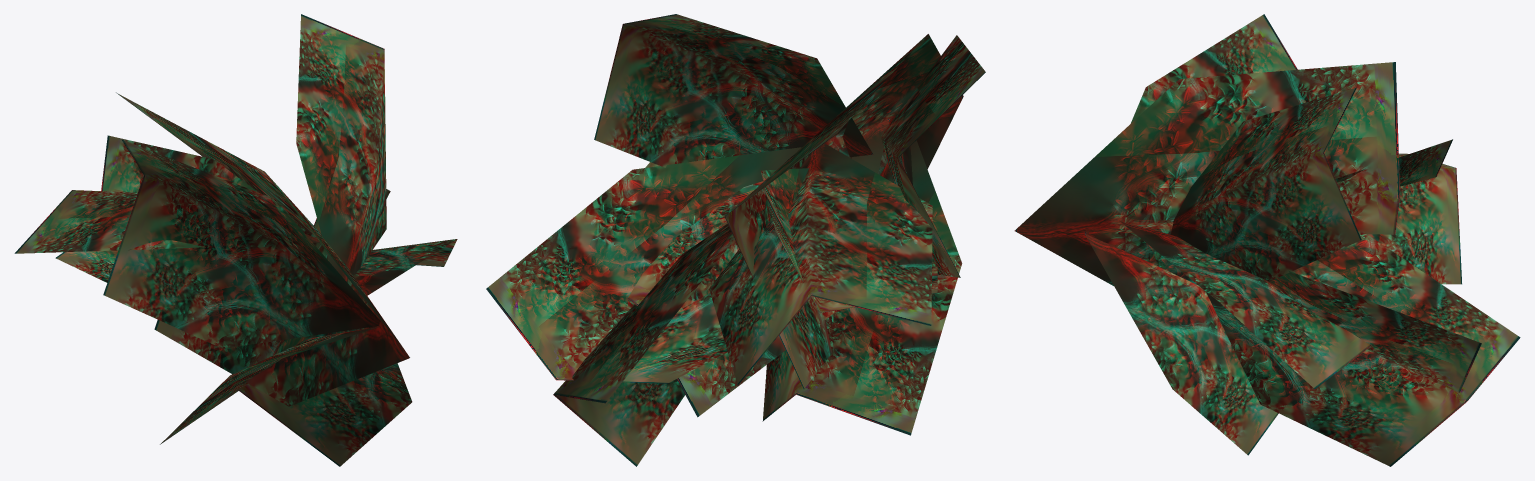
The model's file is Bush_06_01.fbx.
3 renders of one model, left to right at view 1: azimuth 30°, elevation 25°; view 2: azimuth 150°, elevation 25°; view 3: azimuth 270°, elevation 25°, orthographic. The views are drawn at different scales.
Visible parts, largest first — view 1: Bush_06_01; view 2: Bush_06_01; view 3: Bush_06_01.
Part boxes in pixels (<box>): Bush_06_01: <box>14,14,457,466</box>; Bush_06_01: <box>486,14,985,466</box>; Bush_06_01: <box>1014,14,1520,466</box>.
Size of the model in its own units: 3.92 by 4.01 by 4.87.
